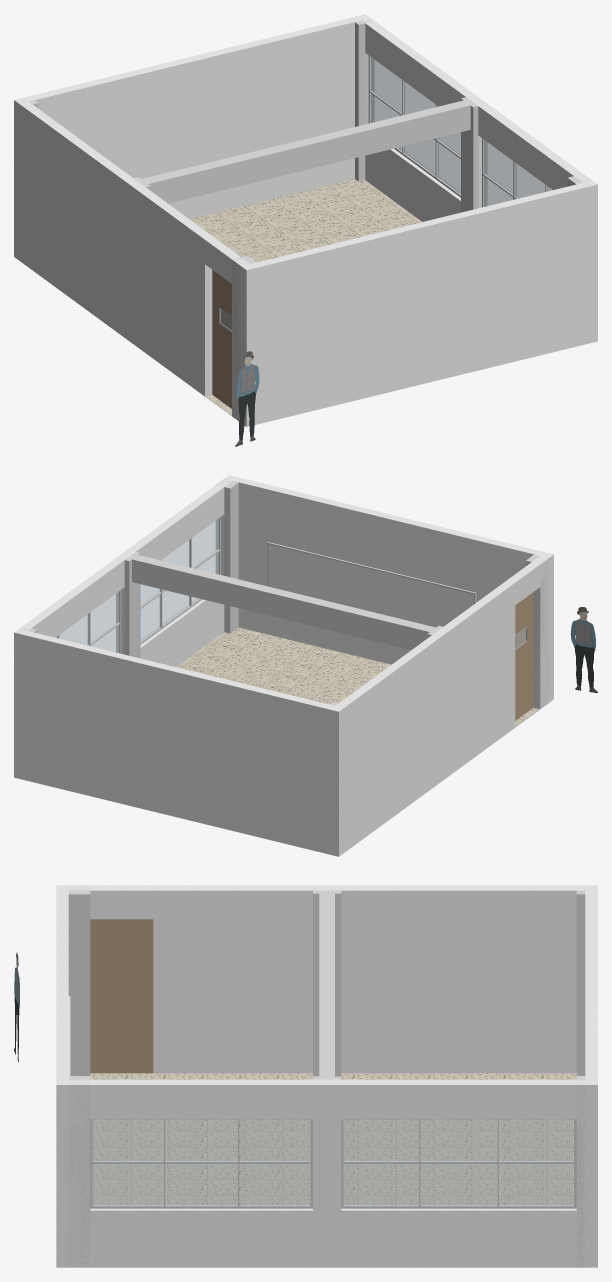
File: AulaY9.glb
The picture shows the model from 3 angles, top to bottom: view 1: azimuth 30°, elevation 25°; view 2: azimuth 150°, elevation 25°; view 3: azimuth 270°, elevation 25°; orthographic projection. The views are drawn at different scales.
Visible parts, largest first — view 1: Geom3D (×12), Geom3D_Trabe Central Este-Oeste_Trabe Central Este-Oeste, Geom3D_Columna Noreste_Columna Noreste, Geom3D_Columna Este Central_Columna Este Central, Geom3D_Columna Suroeste_Columna Suroeste; view 2: Geom3D (×13), Geom3D_Trabe Central Este-Oeste_Trabe Central Este-Oeste, Geom3D_Columna Sureste_Columna Sureste, Geom3D_Columna Suroeste_Columna Suroeste, Geom3D_Columna Este Central_Columna Este Central; view 3: Geom3D (×23), Geom3D_Columna Suroeste_Columna Suroeste, Geom3D_Columna Sureste_Columna Sureste, Geom3D_Trabe Central Este-Oeste_Trabe Central Este-Oeste, Geom3D_Columna Oeste Central_Columna Oeste Central, Geom3D_Columna Noroeste_Columna Noroeste, Geom3D_Columna Noreste_Columna Noreste.
Part boxes in pixels (x1,y1,x2,y2): Geom3D (×12): (14, 14, 597, 426); Geom3D_Trabe Central Este-Oeste_Trabe Central Este-Oeste: (142, 100, 470, 203); Geom3D_Columna Noreste_Columna Noreste: (355, 19, 374, 181); Geom3D_Columna Este Central_Columna Este Central: (461, 97, 478, 212); Geom3D_Columna Suroeste_Columna Suroeste: (232, 255, 256, 420); Geom3D (×13): (14, 475, 594, 856); Geom3D_Trabe Central Este-Oeste_Trabe Central Este-Oeste: (132, 555, 435, 650); Geom3D_Columna Sureste_Columna Sureste: (216, 479, 238, 633); Geom3D_Columna Suroeste_Columna Suroeste: (525, 554, 548, 708); Geom3D_Columna Este Central_Columna Este Central: (124, 552, 140, 658); Geom3D (×23): (56, 885, 597, 1267); Geom3D_Columna Suroeste_Columna Suroeste: (68, 885, 90, 1075); Geom3D_Columna Sureste_Columna Sureste: (68, 1076, 90, 1267); Geom3D_Trabe Central Este-Oeste_Trabe Central Este-Oeste: (319, 893, 334, 1077); Geom3D_Columna Oeste Central_Columna Oeste Central: (313, 890, 341, 1076); Geom3D_Columna Noroeste_Columna Noroeste: (576, 890, 585, 1075); Geom3D_Columna Noreste_Columna Noreste: (576, 1076, 585, 1267).
Size of the model in its own units: 8.13 by 3.2 by 9.27.
Materials: 29 (6 with a texture image).
